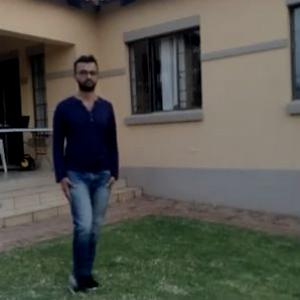follow: (55, 65, 120, 266)
